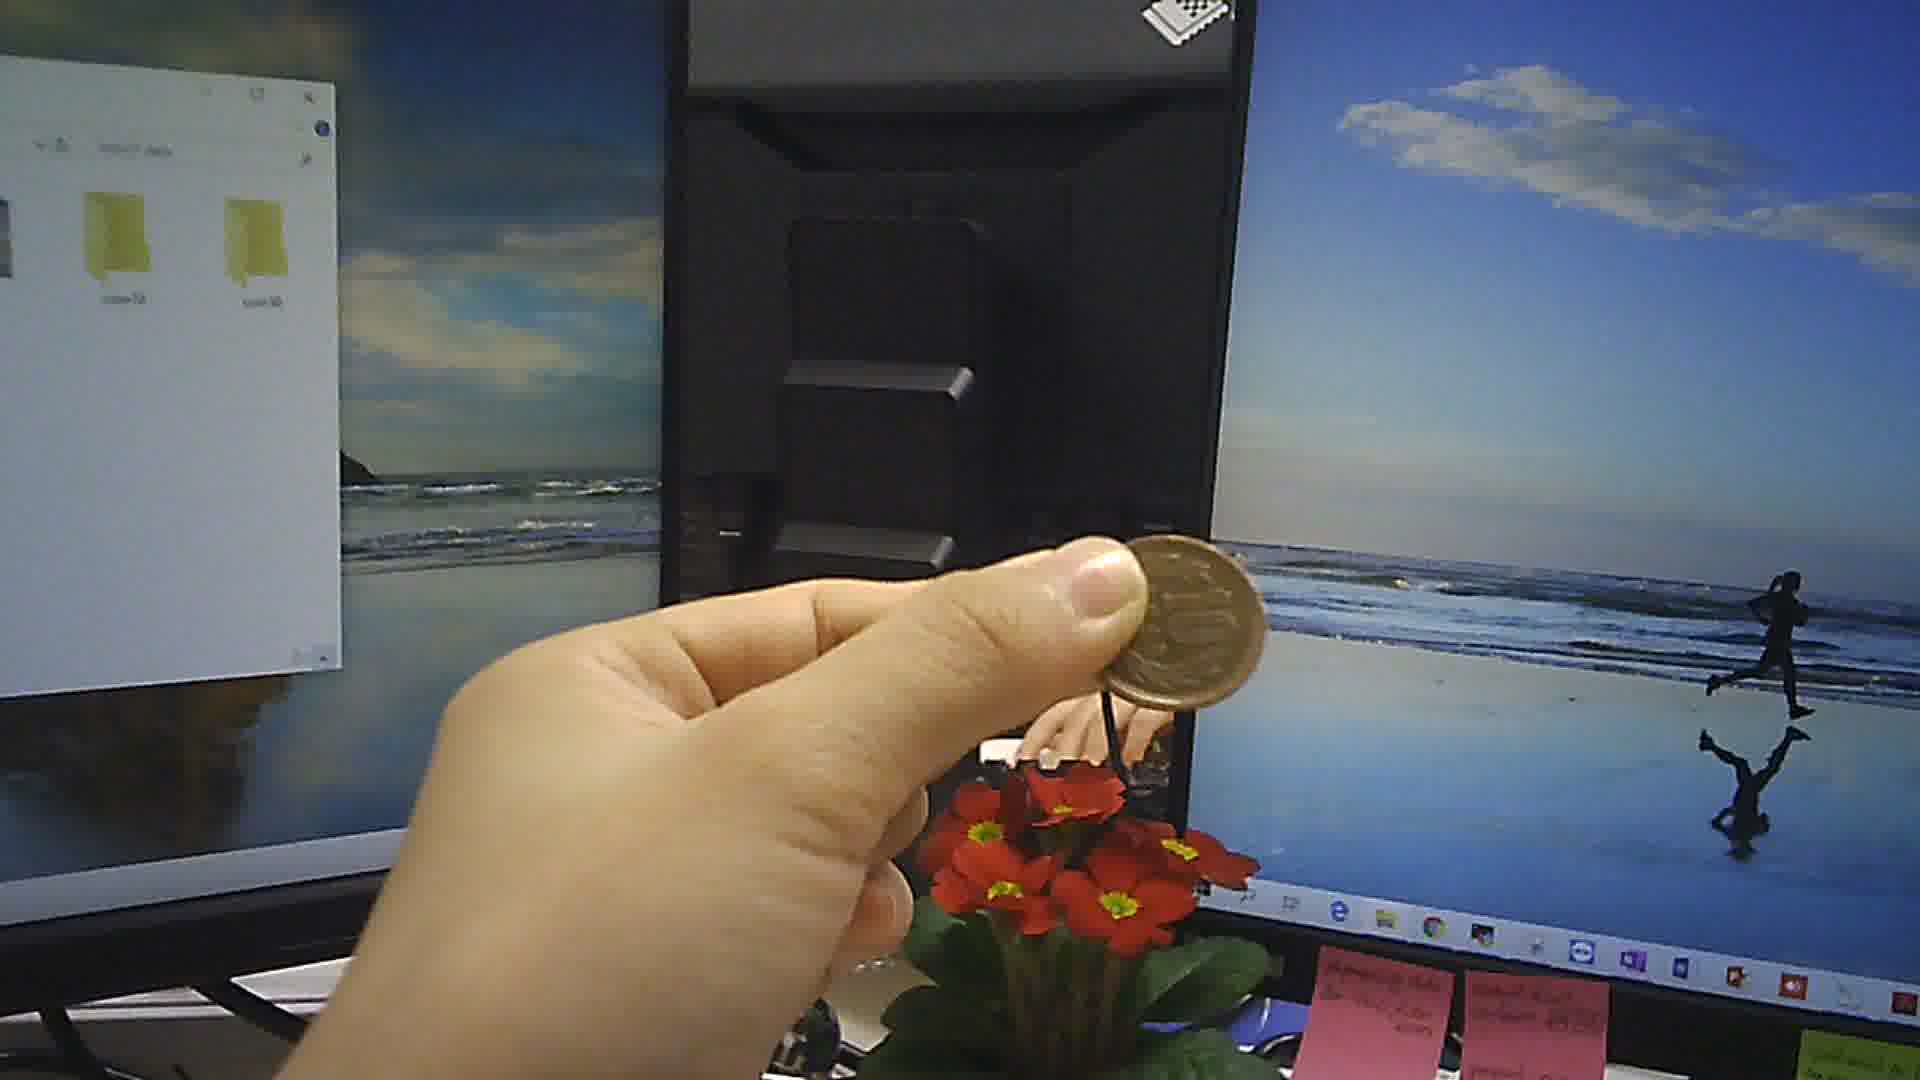10 Yen: (1083, 524, 1265, 709)
